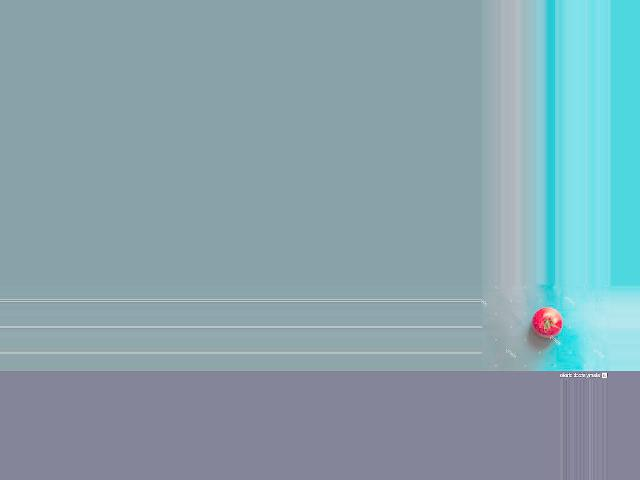tomato: (531, 307, 562, 338)
